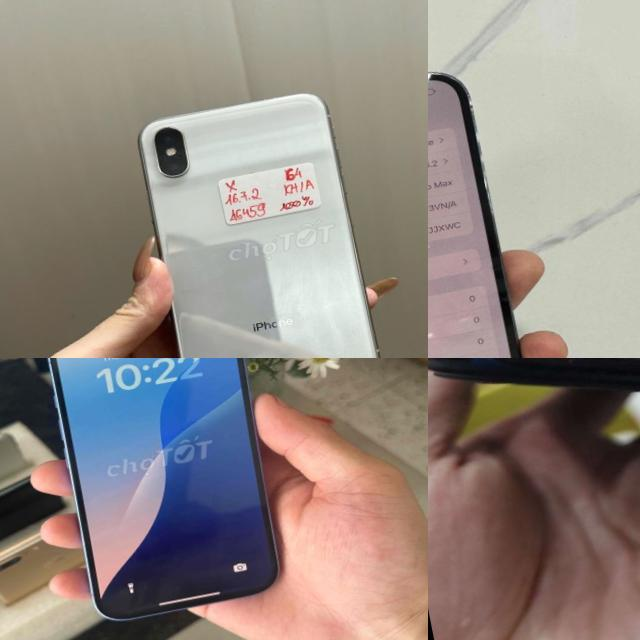physical_damage: (459, 358, 558, 377)
scratch: (253, 91, 296, 110), (360, 352, 383, 358)
